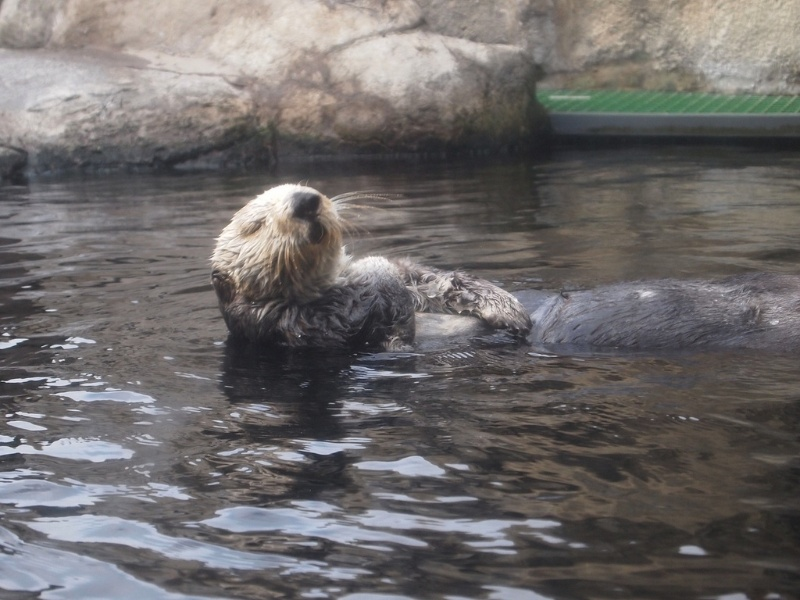minkish: (202, 179, 800, 374)
